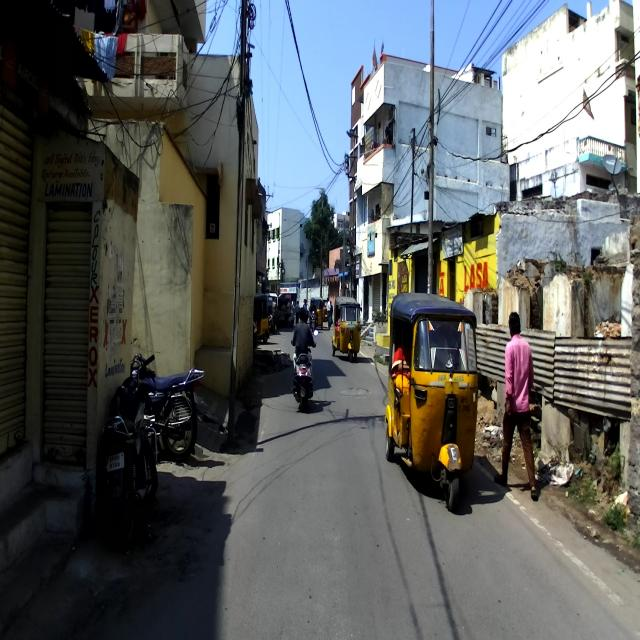high: (499, 315, 540, 499)
